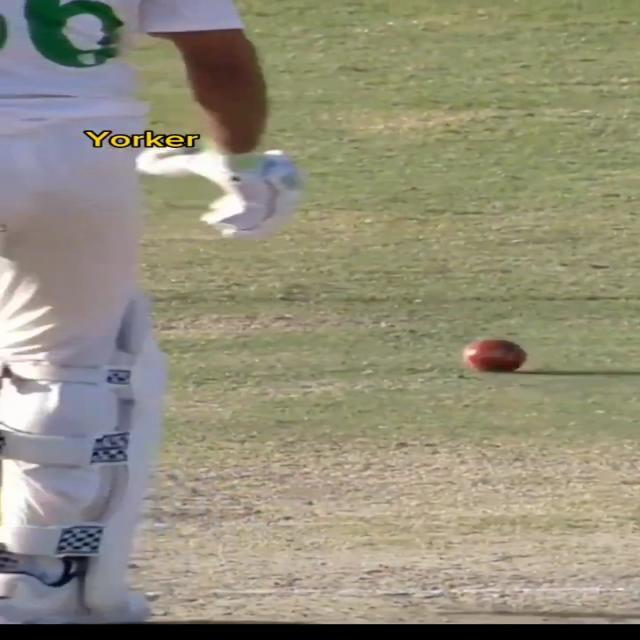Cricket ball: (462, 338, 529, 373)
